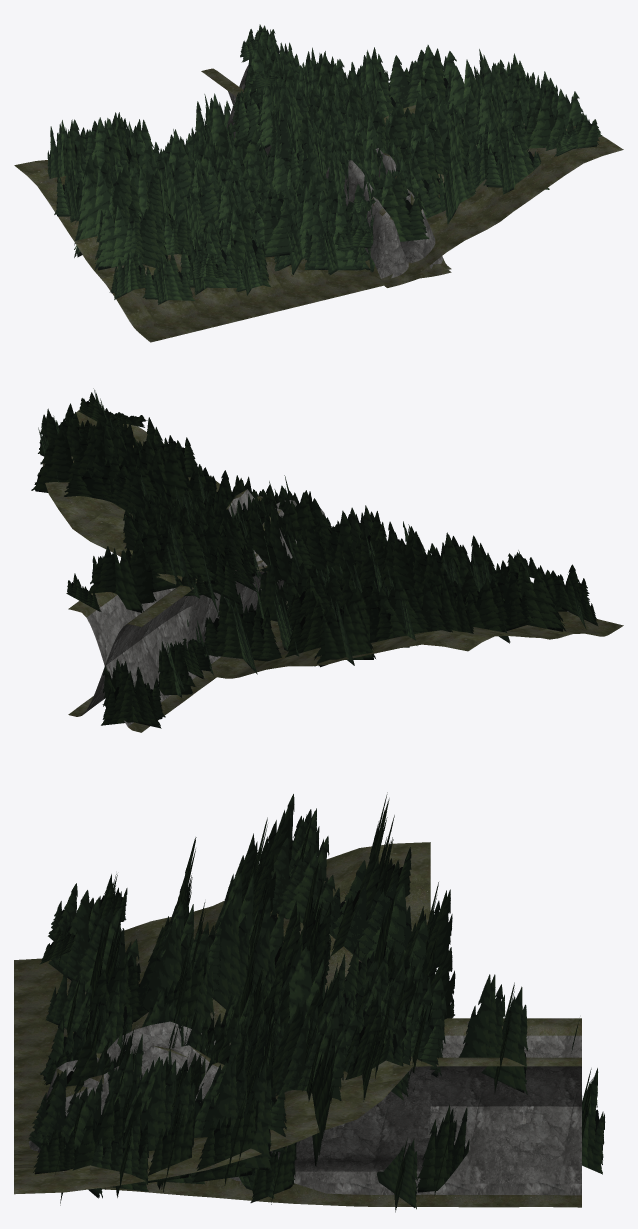
Rendered from bk_town_summer.glb.
3 renders of one model, top to bottom at view 1: azimuth 30°, elevation 25°; view 2: azimuth 150°, elevation 25°; view 3: azimuth 270°, elevation 25°, orthographic. The views are drawn at different scales.
Parts seen in each view (by area): view 1: trees_corner_inner, trees_corner_outer, corner_inner, corner_outer, trees_straight12_a, trees_straight12_c, trees_straight12_b, trees_straight3, endcap_land_to_sea, trees_endcap_sea_to_land, trees_straight6, endcap_sea_to_land (+1 smaller); view 2: trees_corner_inner, trees_corner_outer, trees_endcap_sea_to_land, endcap_sea_to_land, corner_inner, trees_straight12_a, corner_outer, trees_straight3, trees_straight6, endcap_land_to_sea, trees_straight12_c, pass12 (+3 smaller); view 3: trees_corner_inner, trees_corner_outer, endcap_land_to_sea, corner_inner, corner_outer, endcap_sea_to_land, trees_endcap_sea_to_land, pass12, trees_straight12_a, trees_endcap_land_to_sea, trees_straight12_c, trees_straight12_b (+2 smaller).
Part boxes in pixels (x1=…): trees_corner_inner: x1=47, y1=112, x2=372, y2=304; trees_corner_outer: x1=275, y1=45, x2=602, y2=224; corner_inner: x1=14, y1=160, x2=386, y2=342; corner_outer: x1=376, y1=104, x2=623, y2=284; trees_straight12_a: x1=245, y1=51, x2=429, y2=241; trees_straight12_c: x1=256, y1=52, x2=415, y2=213; trees_straight12_b: x1=274, y1=47, x2=416, y2=245; trees_straight3: x1=231, y1=55, x2=367, y2=255; endcap_land_to_sea: x1=201, y1=68, x2=451, y2=280; trees_endcap_sea_to_land: x1=191, y1=24, x2=374, y2=272; trees_straight6: x1=243, y1=44, x2=425, y2=216; endcap_sea_to_land: x1=227, y1=65, x2=446, y2=287; trees_corner_inner: x1=204, y1=505, x2=598, y2=674; trees_corner_outer: x1=31, y1=388, x2=331, y2=586; trees_endcap_sea_to_land: x1=66, y1=506, x2=336, y2=728; endcap_sea_to_land: x1=68, y1=489, x2=288, y2=732; corner_inner: x1=202, y1=609, x2=623, y2=678; trees_straight12_a: x1=131, y1=475, x2=338, y2=592; corner_outer: x1=42, y1=409, x2=267, y2=580; trees_straight3: x1=187, y1=499, x2=332, y2=613; trees_straight6: x1=137, y1=481, x2=323, y2=592; endcap_land_to_sea: x1=68, y1=500, x2=325, y2=716; trees_straight12_c: x1=136, y1=486, x2=312, y2=600; pass12: x1=186, y1=570, x2=283, y2=649; trees_corner_inner: x1=39, y1=792, x2=452, y2=1085; trees_corner_outer: x1=28, y1=961, x2=433, y2=1205; endcap_land_to_sea: x1=28, y1=1018, x2=581, y2=1207; corner_inner: x1=14, y1=842, x2=430, y2=1135; corner_outer: x1=14, y1=1057, x2=418, y2=1194; endcap_sea_to_land: x1=37, y1=1045, x2=581, y2=1152; trees_endcap_sea_to_land: x1=246, y1=974, x2=605, y2=1174; pass12: x1=271, y1=1066, x2=430, y2=1171; trees_straight12_a: x1=46, y1=947, x2=444, y2=1105; trees_endcap_land_to_sea: x1=157, y1=976, x2=469, y2=1212; trees_straight12_c: x1=94, y1=946, x2=446, y2=1096; trees_straight12_b: x1=92, y1=970, x2=400, y2=1108.
Size of the model in its own units: 89.67 by 29.88 by 64.44.
Materials: 3 (3 with a texture image).
